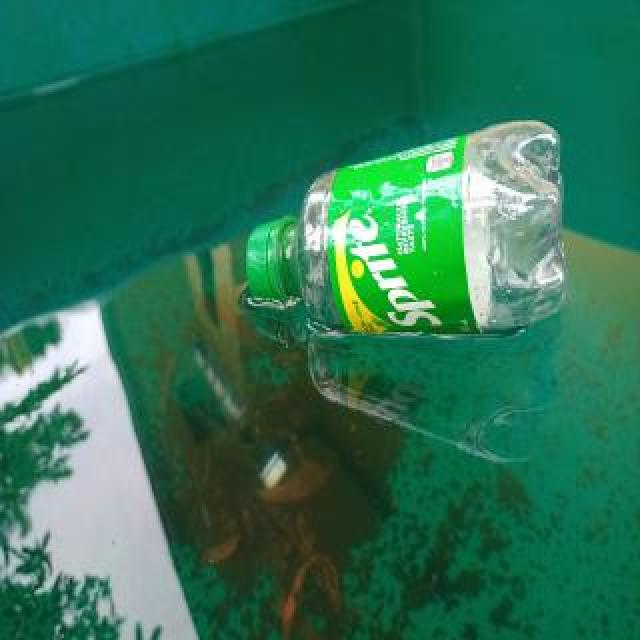Plastic Bottle: (246, 117, 570, 345)
